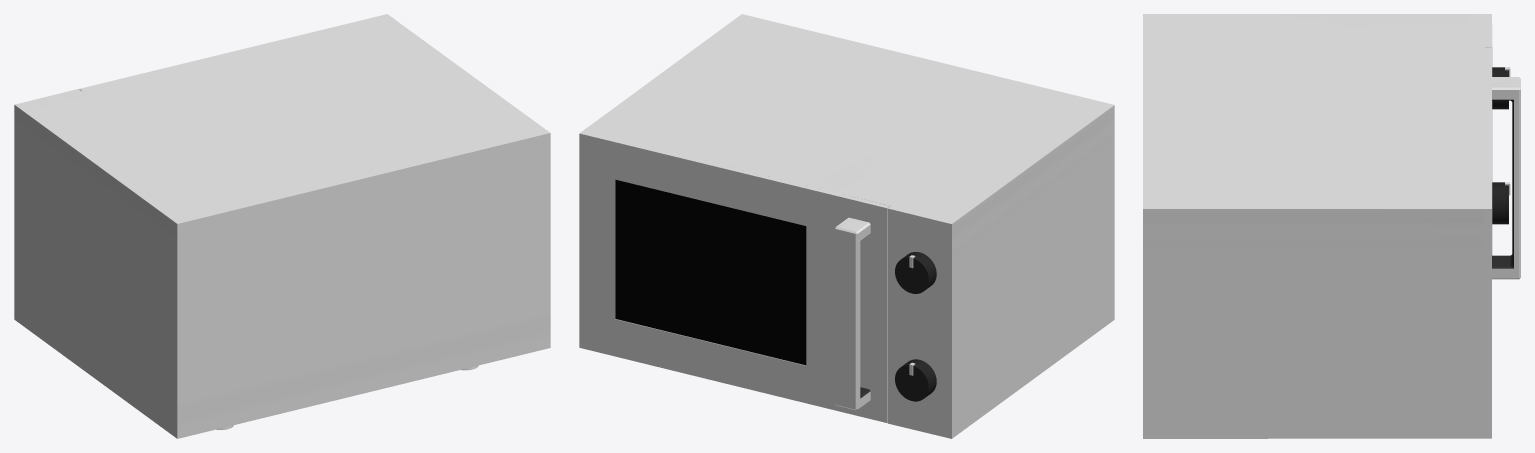
Rendered from MicrowaveOven04.glb.
The picture shows the model from 3 angles, left to right: view 1: azimuth 30°, elevation 25°; view 2: azimuth 150°, elevation 25°; view 3: azimuth 270°, elevation 25°; orthographic projection. The views are drawn at different scales.
Parts seen in each view (by area): view 1: MicrowaveOven04_model, MicrowaveOven04_Door; view 2: MicrowaveOven04_model, MicrowaveOven04_Door, MicrowaveOven04_Glass, MicrowaveOven04_Knob02, MicrowaveOven04_Knob01; view 3: MicrowaveOven04_model, MicrowaveOven04_Door, MicrowaveOven04_Knob02.
Part boxes in pixels (x1,y1,x2,y2): MicrowaveOven04_model: (14, 16, 550, 438); MicrowaveOven04_Door: (79, 14, 390, 90); MicrowaveOven04_model: (583, 14, 1114, 438); MicrowaveOven04_Door: (579, 131, 890, 422); MicrowaveOven04_Glass: (615, 179, 806, 365); MicrowaveOven04_Knob02: (895, 359, 936, 401); MicrowaveOven04_Knob01: (895, 252, 936, 293); MicrowaveOven04_model: (1143, 14, 1492, 438); MicrowaveOven04_Door: (1484, 47, 1520, 438); MicrowaveOven04_Knob02: (1492, 182, 1510, 224).
Bounding box in the file's own units: 1.15 × 0.6847 × 0.9458.
2 materials, 1 textured.
